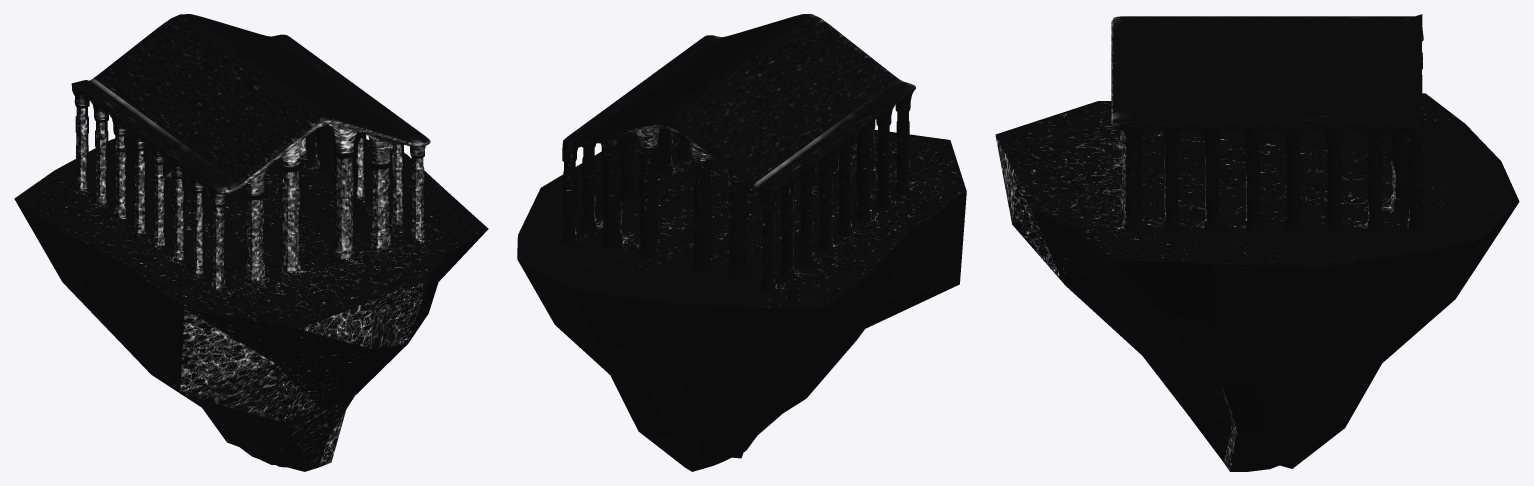
File: Island_Pillars.glb
3 renders of one model, left to right at view 1: azimuth 30°, elevation 25°; view 2: azimuth 150°, elevation 25°; view 3: azimuth 270°, elevation 25°, orthographic. The views are drawn at different scales.
Parts seen in each view (by area): view 1: Cube.002, Cube.005; view 2: Cube.002, Cube.005; view 3: Cube.002, Cube.005.
Boxes of the visible parts, x1=… form: Cube.002: x1=14, y1=124, x2=488, y2=471; Cube.005: x1=71, y1=14, x2=430, y2=288; Cube.002: x1=517, y1=129, x2=966, y2=471; Cube.005: x1=562, y1=14, x2=915, y2=292; Cube.002: x1=995, y1=93, x2=1519, y2=471; Cube.005: x1=1111, y1=14, x2=1423, y2=231.
Size of the model in its own units: 112 by 129 by 143.
Materials: 2 (2 with a texture image).
